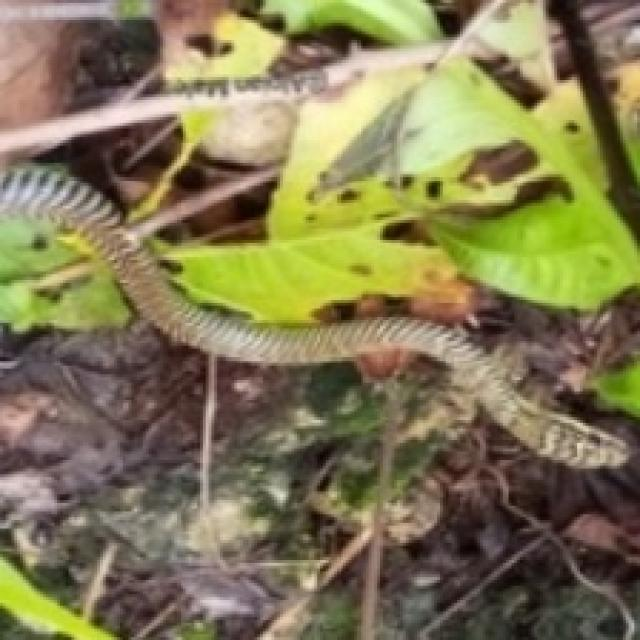paradise tree snake: (0, 166, 626, 466)
